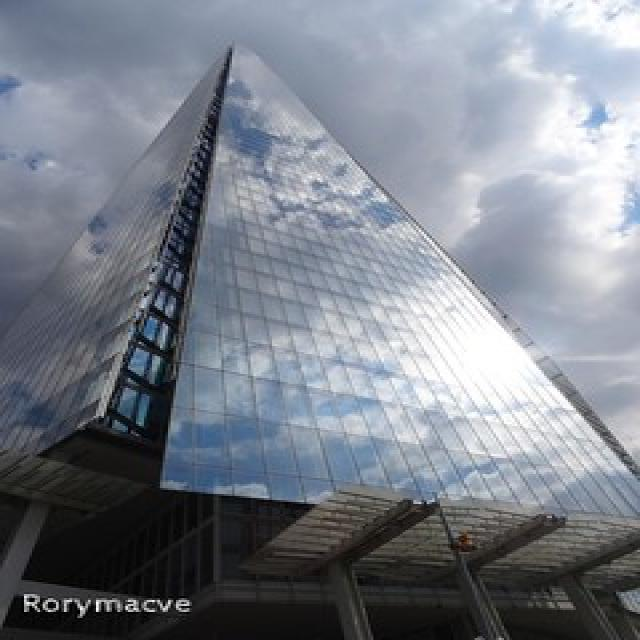Normal_building: (5, 38, 640, 620)
